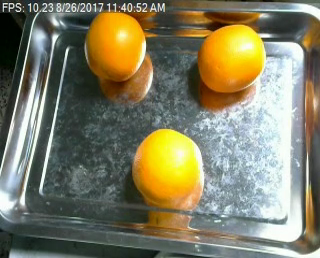Orange: (132, 127, 204, 206), (196, 23, 265, 91), (83, 10, 147, 81)
